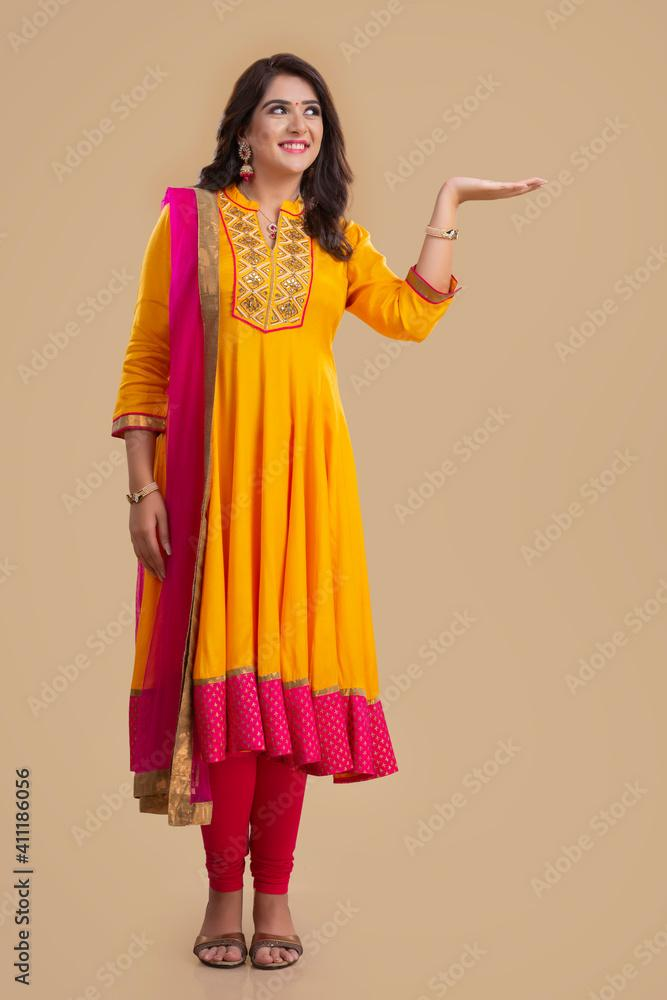Human: (91, 8, 473, 1000)
